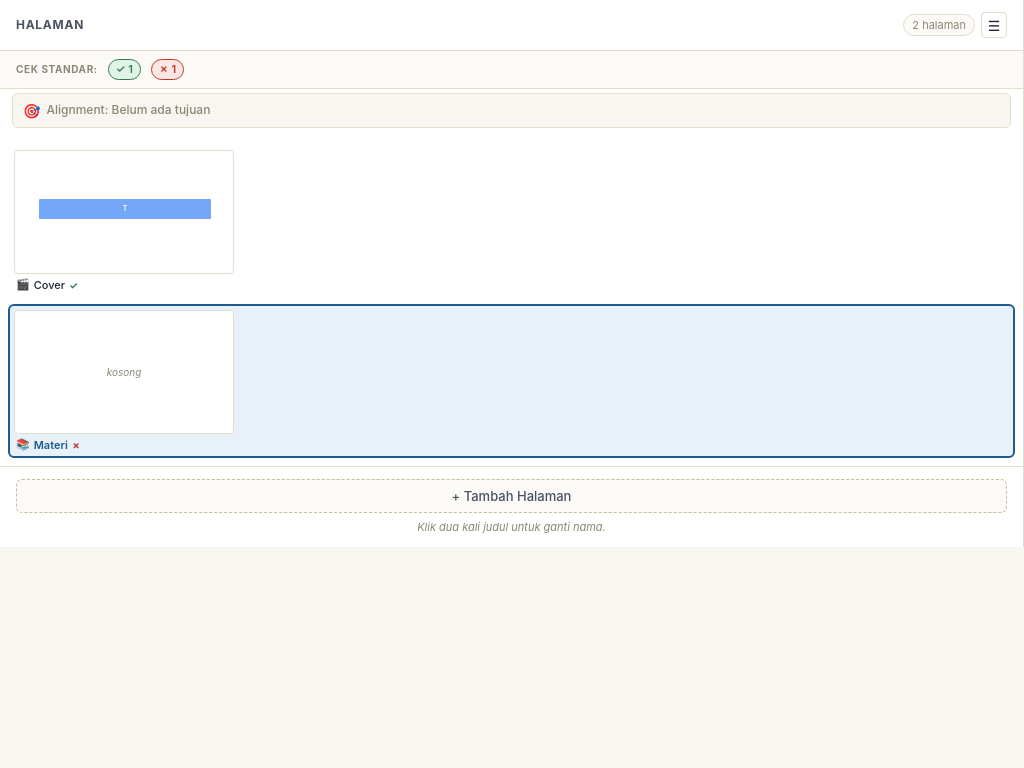
Test: UX-02 — PagePanel rendering › page with warning shows ⚠ badge with data-level=warning
Click the button with test id "page-panel-view-toggle": (994, 25) left=981, top=12, right=1007, bottom=38
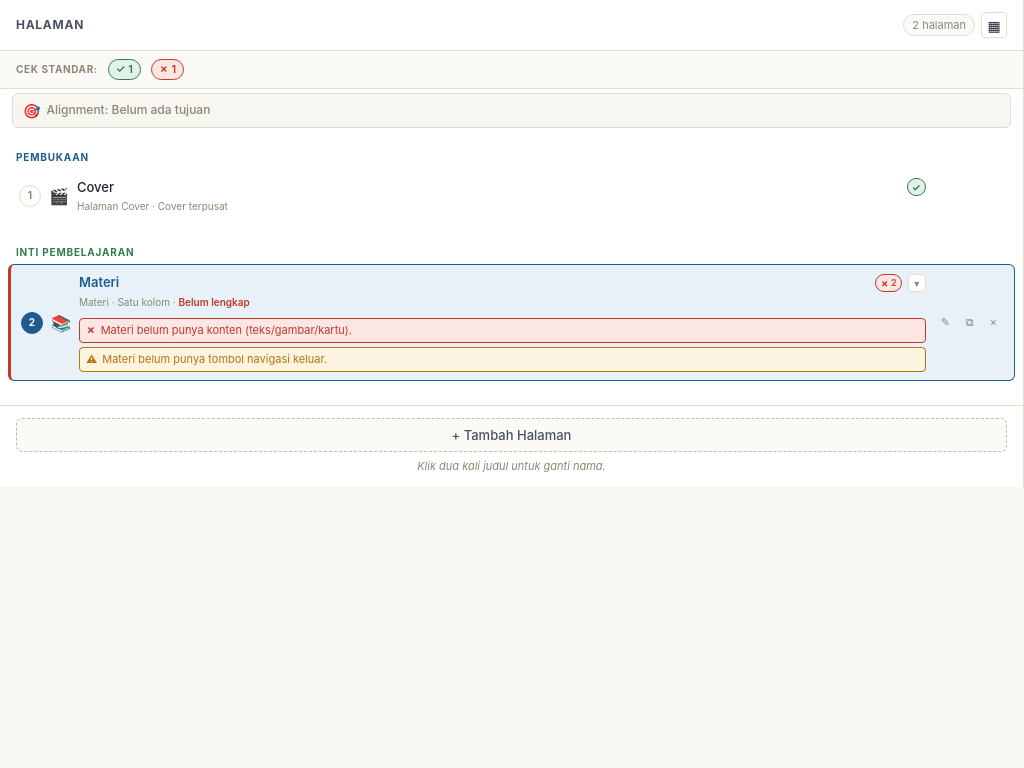
Expected: the element showing "✗ 2" is shown, left=875, top=274, right=902, bottom=292
